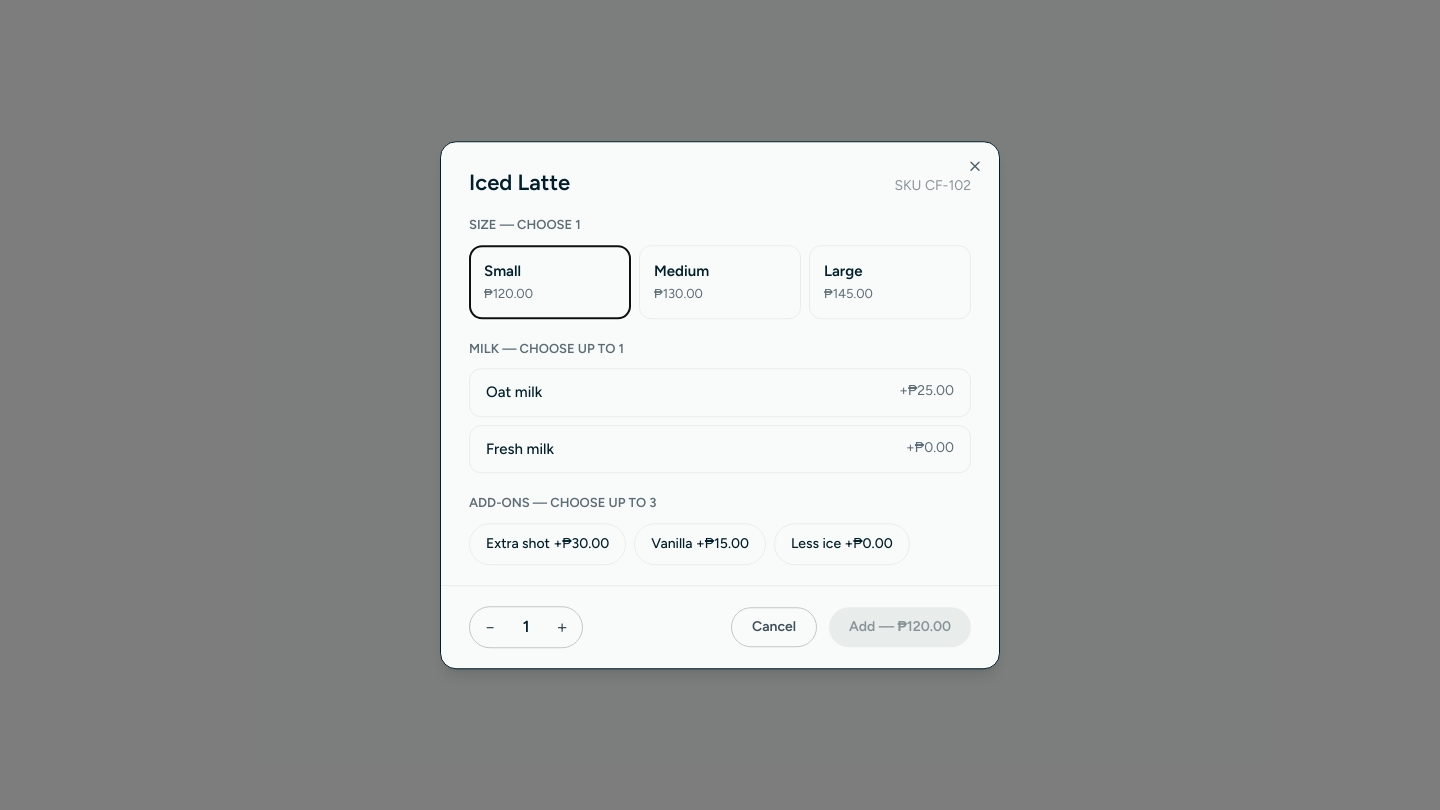
Test: a size must be chosen before the line can be added
The image size is (1440, 810).
Expected: the button "Add — ₱120.00" is disabled, [829,607,971,647]
Click the button "Large ₱145.00": (890, 282) [809,245,971,319]
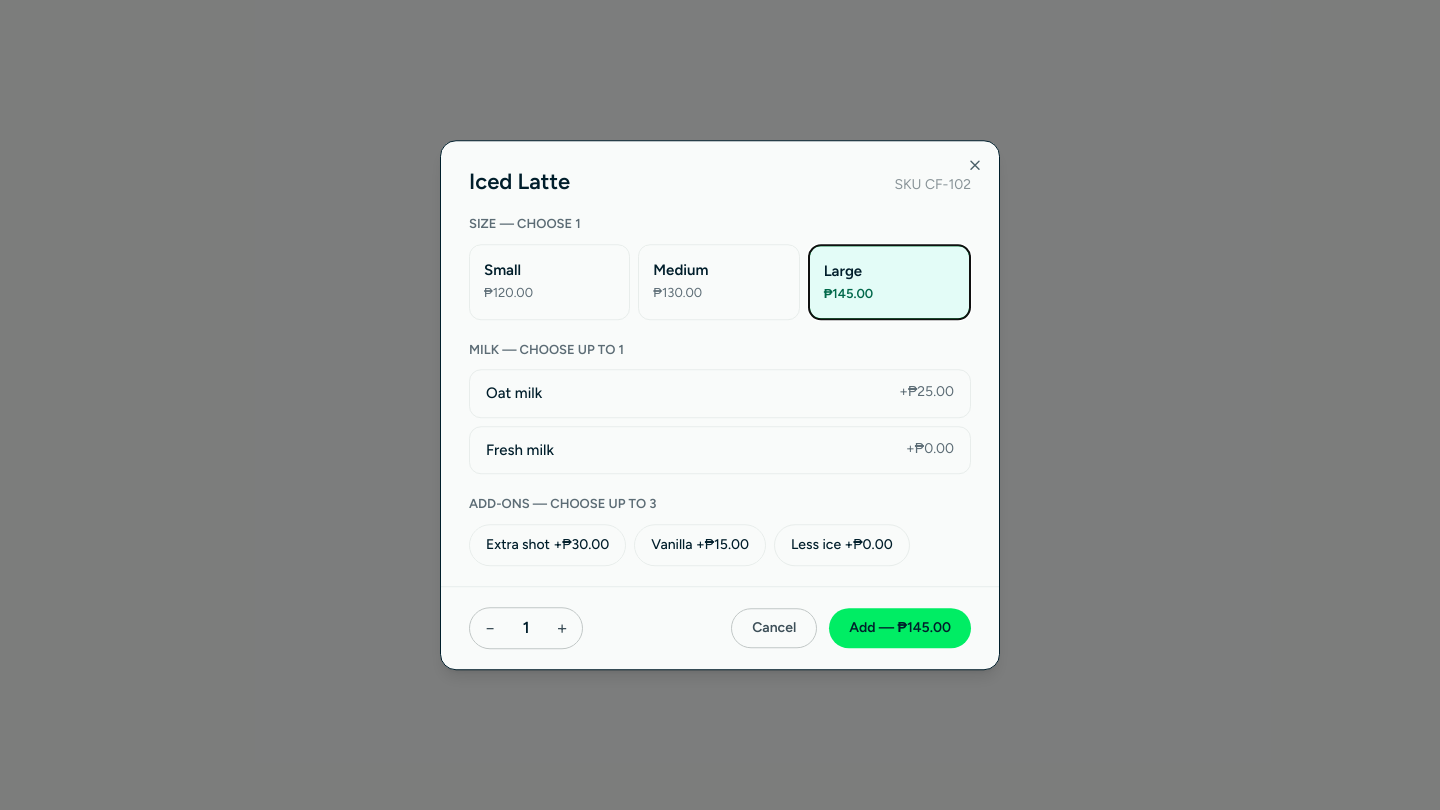
Now the button "Add — ₱145.00" is enabled, box [829,608,971,648]
